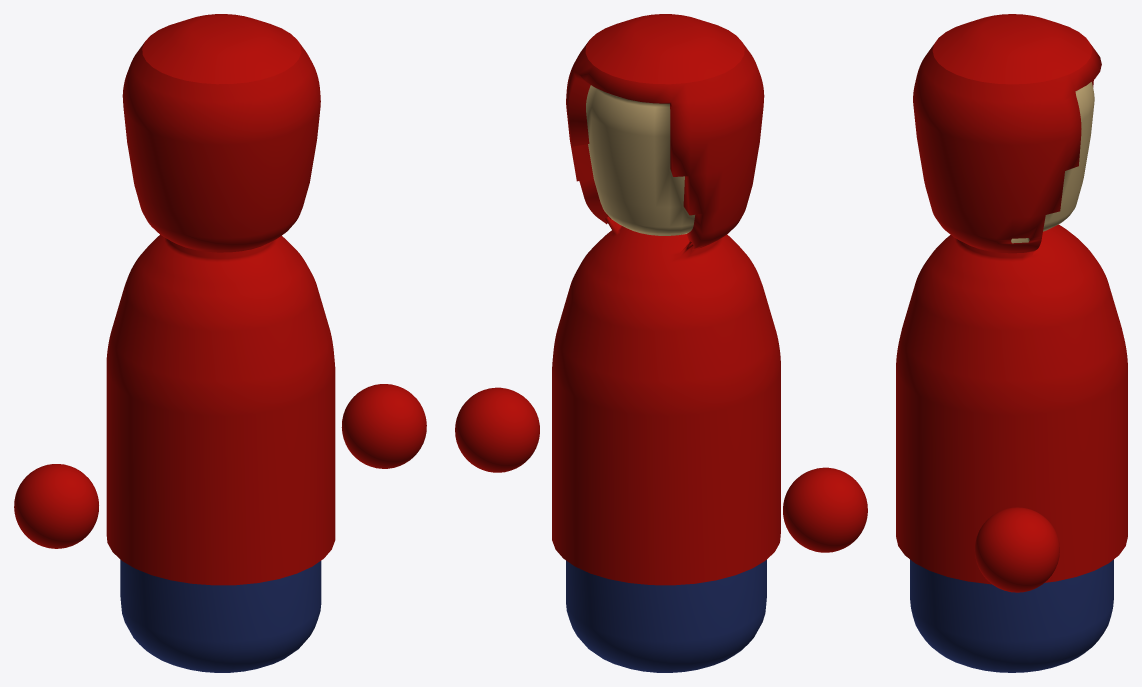
File: MAIN.fbx
3 views of the same model, side by side, from view 1: azimuth 30°, elevation 25°; view 2: azimuth 150°, elevation 25°; view 3: azimuth 270°, elevation 25° (orthographic).
Visible parts, largest first — view 1: Cylinder, Circle, Icosphere, Icosphere.001; view 2: Cylinder, Circle, Icosphere.001, Icosphere; view 3: Cylinder, Circle, Icosphere.001.
Boxes of the visible parts, x1,y1,x2,y2 form: Cylinder: (106,234,335,672); Circle: (122,14,320,252); Icosphere: (14,464,98,548); Icosphere.001: (341,384,426,468); Cylinder: (552,217,780,672); Circle: (566,14,764,249); Icosphere.001: (455,387,539,472); Icosphere: (783,467,867,552); Cylinder: (896,224,1127,672); Circle: (913,14,1101,253); Icosphere.001: (974,507,1059,592).
Bounding box in the file's own units: 378 × 555 × 189.
